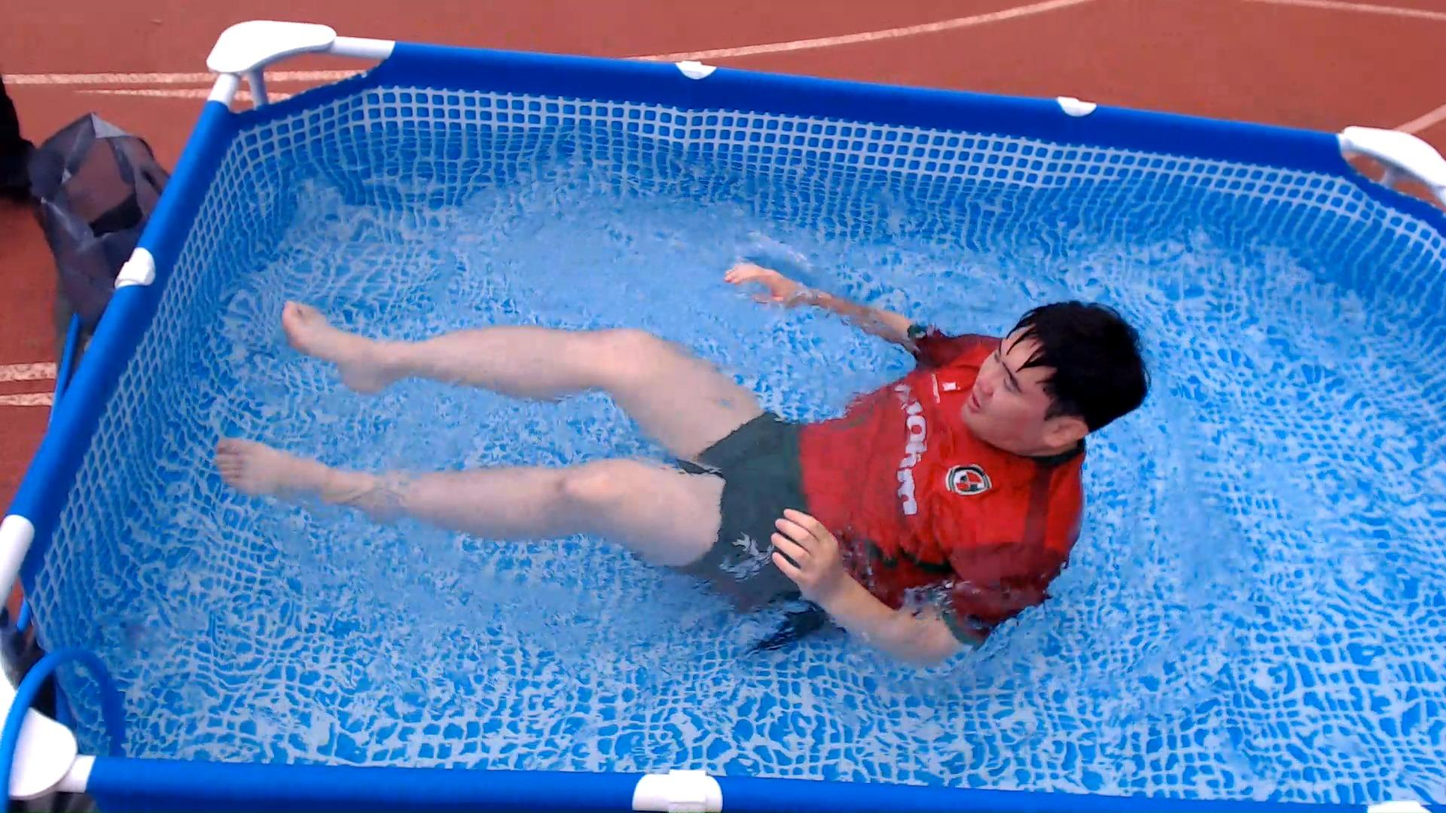Swimming: (190, 247, 1190, 645)
